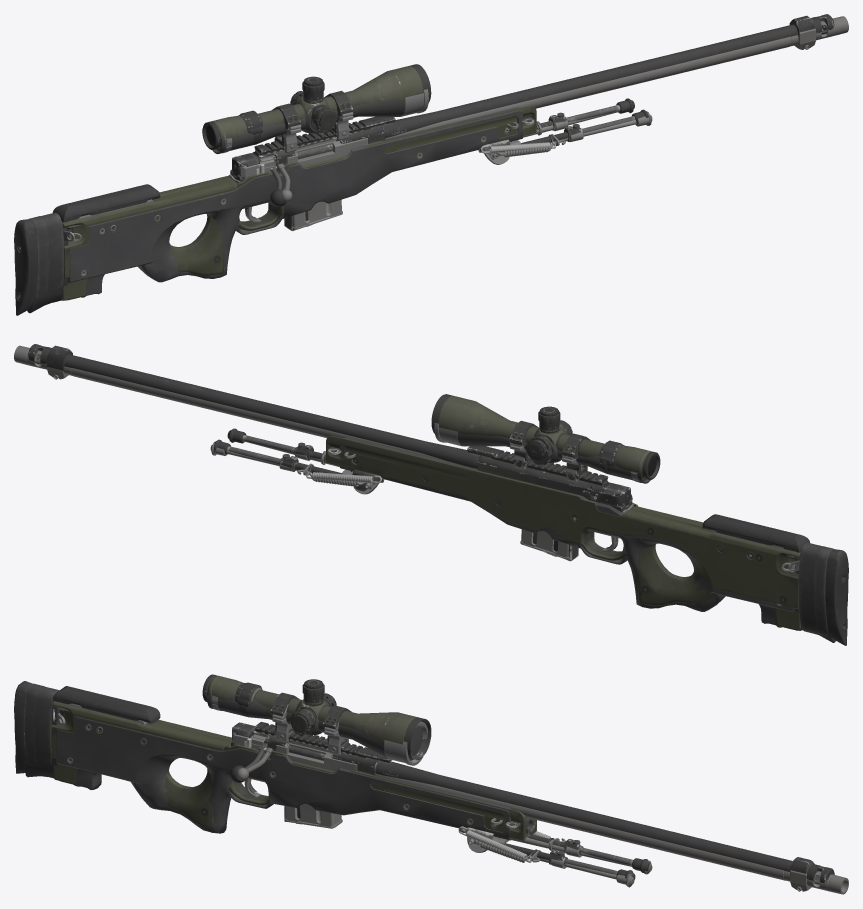
The picture shows the model from 3 angles, top to bottom: view 1: azimuth 30°, elevation 25°; view 2: azimuth 150°, elevation 25°; view 3: azimuth 330°, elevation 25°; orthographic projection.
Parts seen in each view (by area): view 1: weapon_snip_awp.vmdl_c.body_hd, weapon_snip_awp.vmdl_c.body_legacy; view 2: weapon_snip_awp.vmdl_c.body_hd, weapon_snip_awp.vmdl_c.body_legacy; view 3: weapon_snip_awp.vmdl_c.body_legacy, weapon_snip_awp.vmdl_c.body_hd.
Part boxes in pixels (x1,y1,x2,y2): weapon_snip_awp.vmdl_c.body_hd: (14, 14, 834, 315); weapon_snip_awp.vmdl_c.body_legacy: (27, 16, 848, 313); weapon_snip_awp.vmdl_c.body_hd: (28, 344, 848, 645); weapon_snip_awp.vmdl_c.body_legacy: (14, 345, 835, 642); weapon_snip_awp.vmdl_c.body_legacy: (24, 693, 848, 894); weapon_snip_awp.vmdl_c.body_hd: (14, 674, 834, 884).
Size of the model in its own units: 54.58 by 10.8 by 4.56.
Materials: 3 (2 with a texture image).
